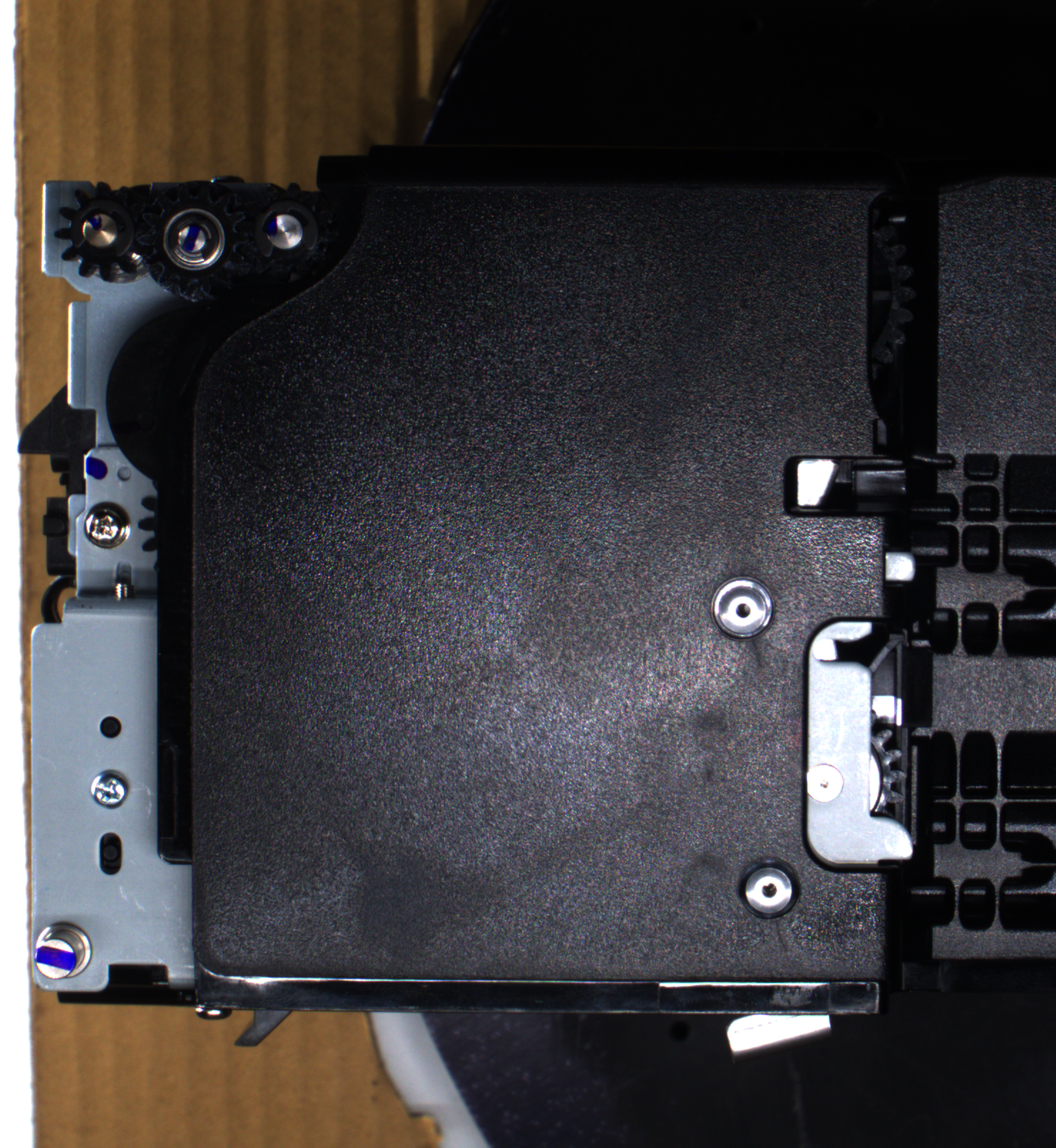centre_pin_presence: (718, 998, 837, 1063)
centre_plate_presence: (795, 612, 924, 878)
centre_screw_presence: (706, 570, 779, 647), (731, 849, 804, 921)
gear1_presence: (53, 179, 155, 285)
gear2_presence: (138, 180, 251, 302)
gear3_presence: (234, 181, 334, 283)
side_screw_presence: (81, 498, 133, 551), (87, 768, 132, 809)
slanting_pin_presence: (28, 918, 99, 987)
